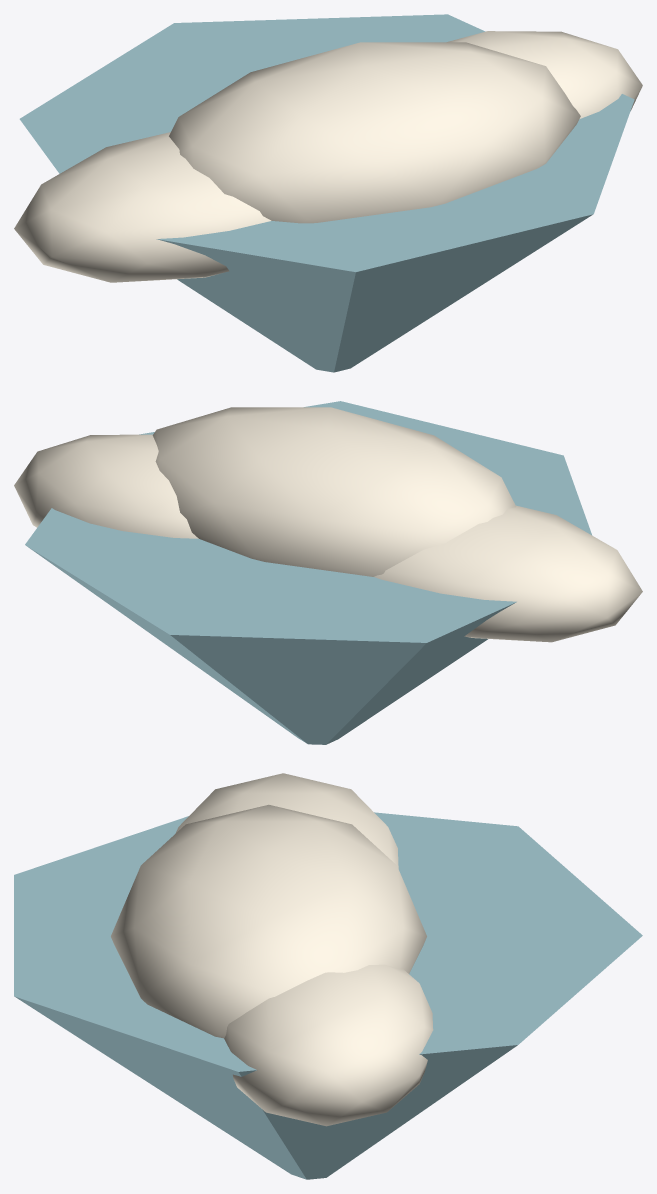
File: d5_cloud_island.glb
3 renders of one model, top to bottom at view 1: azimuth 30°, elevation 25°; view 2: azimuth 150°, elevation 25°; view 3: azimuth 270°, elevation 25°, orthographic. The views are drawn at different scales.
Visible parts, largest first — view 1: d5_cloud_island__d5-cloud, d5_cloud_island__d5-blue-stone; view 2: d5_cloud_island__d5-cloud, d5_cloud_island__d5-blue-stone; view 3: d5_cloud_island__d5-cloud, d5_cloud_island__d5-blue-stone.
Part boxes in pixels (left/top/right/bottom): d5_cloud_island__d5-cloud: left=14, top=31, right=642, bottom=282; d5_cloud_island__d5-blue-stone: left=19, top=14, right=634, bottom=372; d5_cloud_island__d5-cloud: left=14, top=407, right=642, bottom=642; d5_cloud_island__d5-blue-stone: left=25, top=401, right=592, bottom=744; d5_cloud_island__d5-cloud: left=111, top=773, right=433, bottom=1126; d5_cloud_island__d5-blue-stone: left=14, top=812, right=642, bottom=1179.
Bounding box in the file's own units: 40.36 × 19.44 × 34.27.
